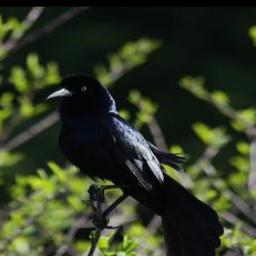Crow: (44, 71, 223, 256)
